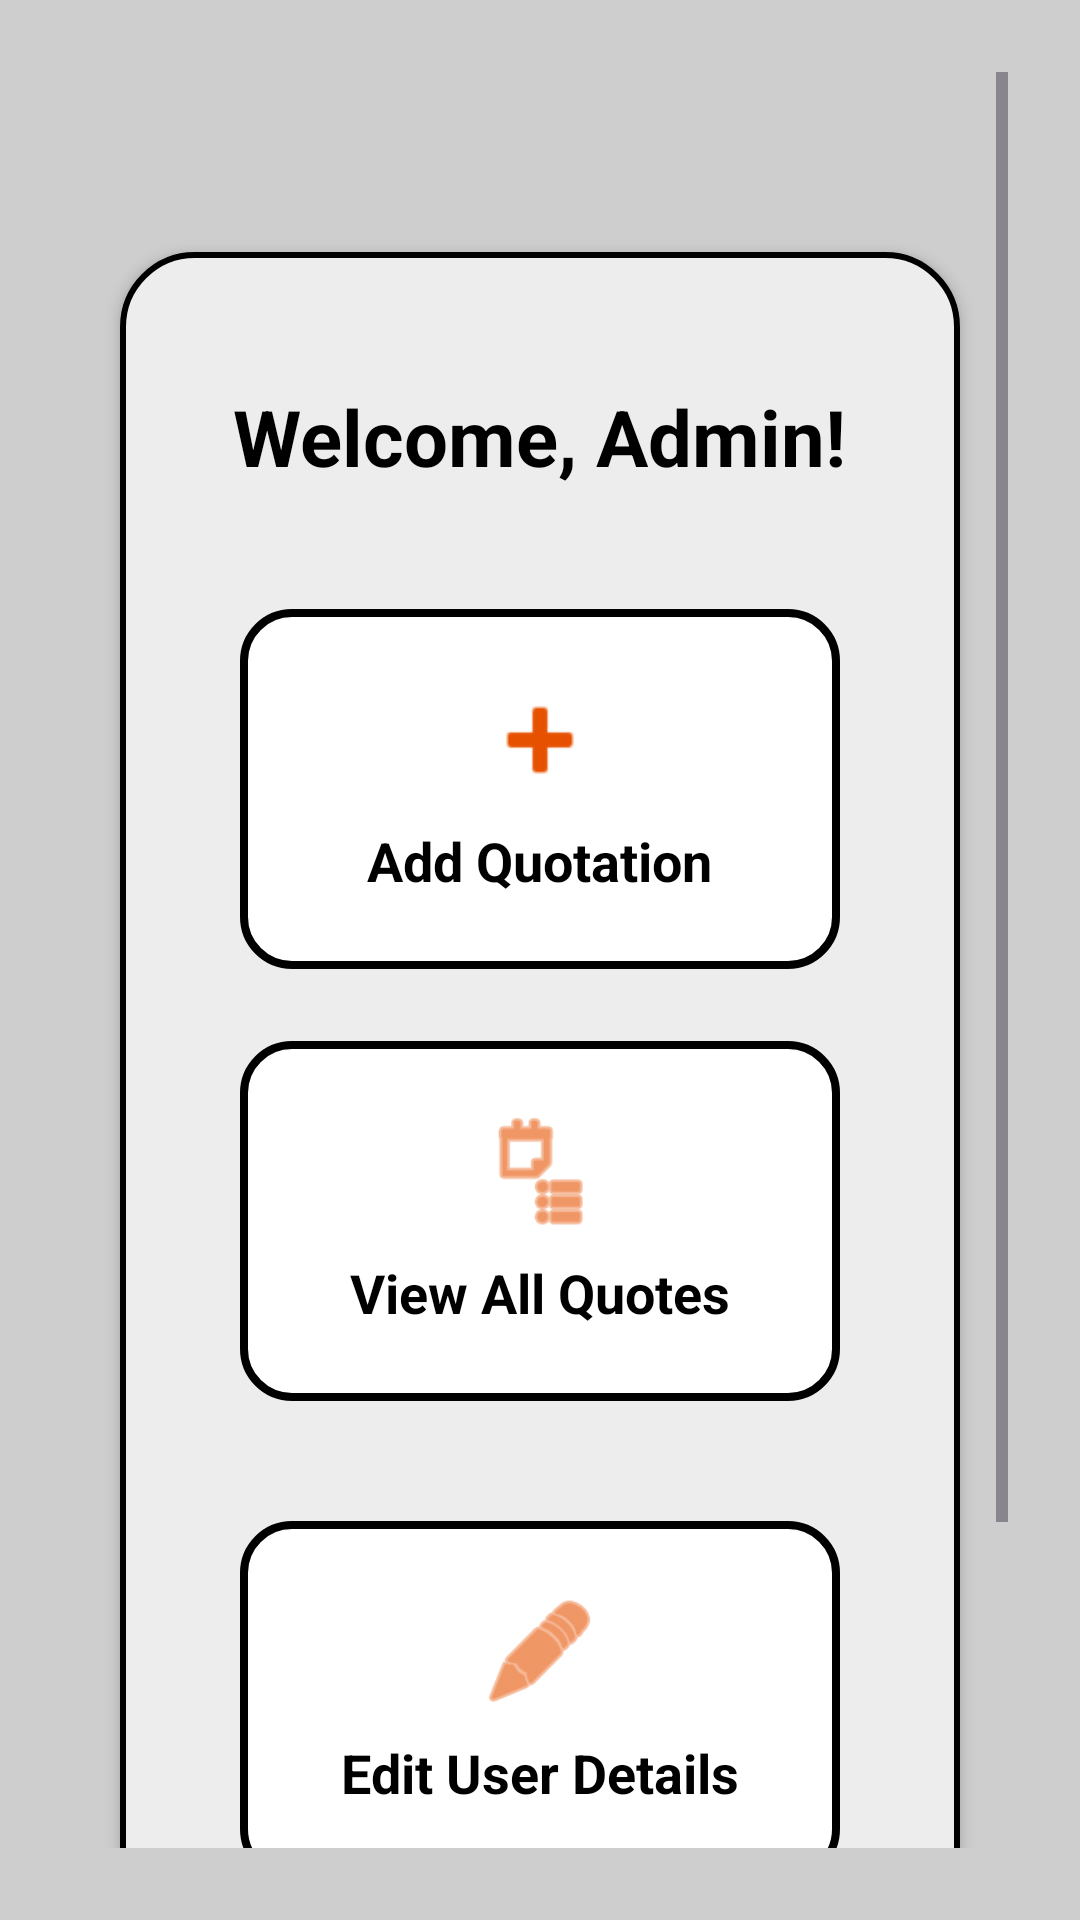

Named icons in this screenshot (1080*1920) and their centers, (x=x, y=y):
agenda: (x=540, y=1171)
